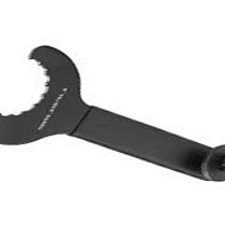Wrench: (5, 39, 225, 181)
